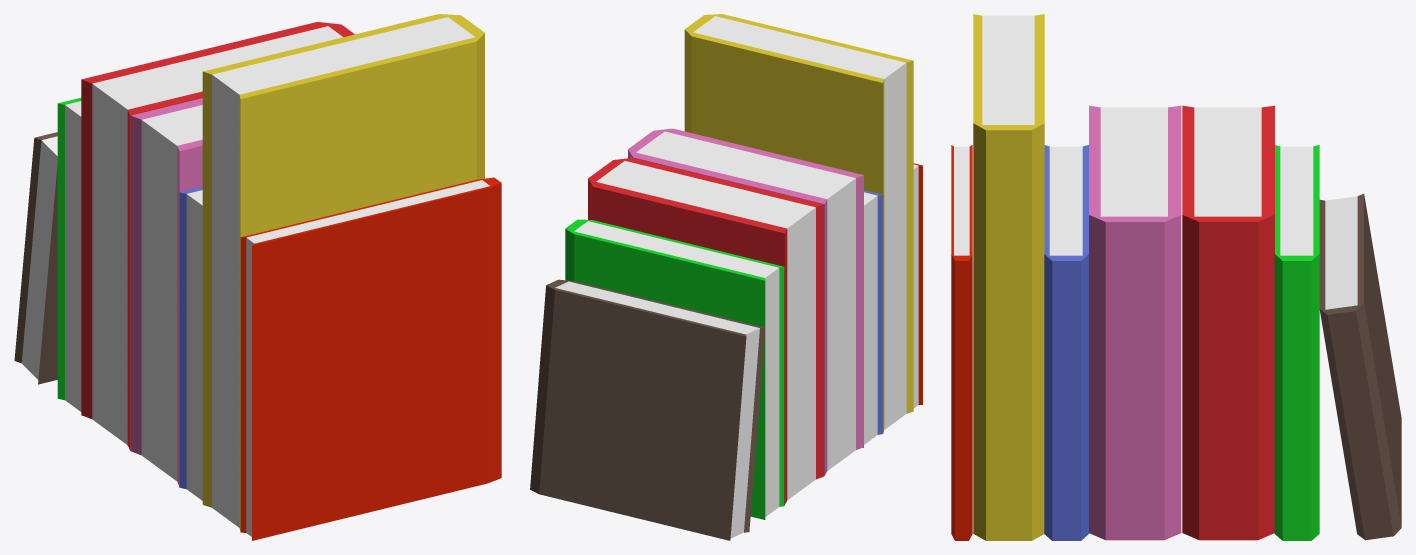
File: ksiazka-ustawienie1.fbx
The picture shows the model from 3 angles, left to right: view 1: azimuth 30°, elevation 25°; view 2: azimuth 150°, elevation 25°; view 3: azimuth 270°, elevation 25°; orthographic projection. The views are drawn at different scales.
Visible parts, largest first — view 1: Cube.006; view 2: Cube.006; view 3: Cube.006.
Part boxes in pixels (left/top/right/bottom): Cube.006: left=14, top=14, right=501, bottom=540; Cube.006: left=530, top=14, right=922, bottom=540; Cube.006: left=951, top=14, right=1401, bottom=540.
Size of the model in its own units: 281 by 463 by 460.
